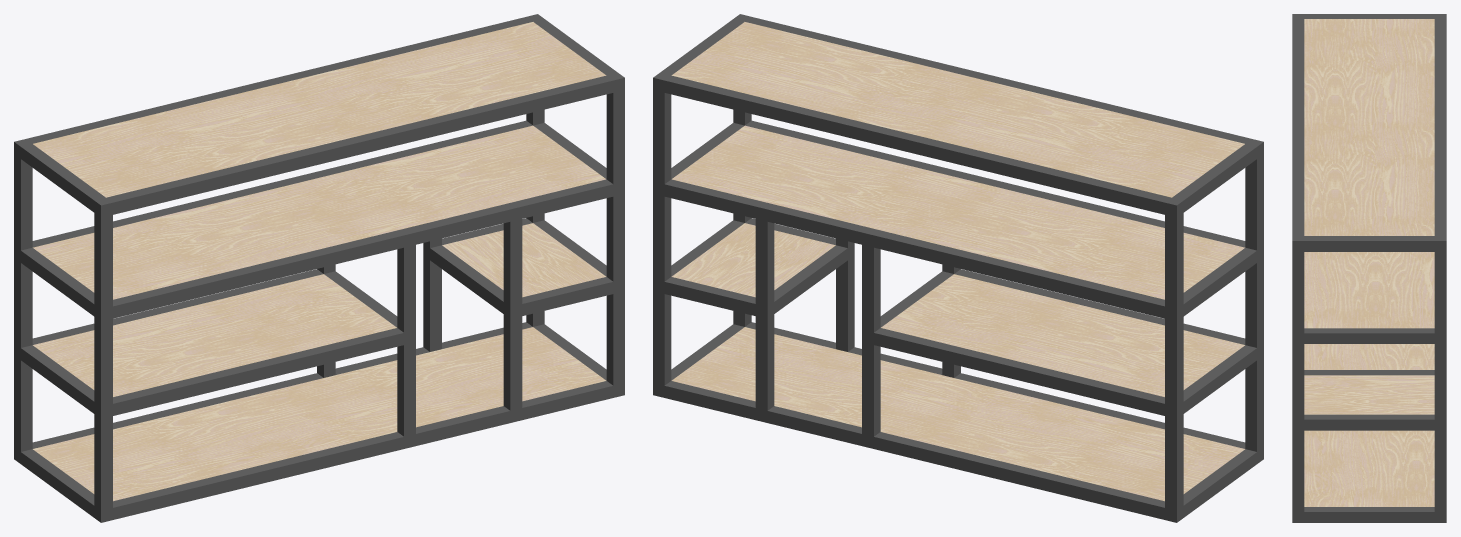
Rendered from shelf_007.fbx.
3 views of the same model, side by side, from view 1: azimuth 30°, elevation 25°; view 2: azimuth 150°, elevation 25°; view 3: azimuth 270°, elevation 25° (orthographic). The views are drawn at different scales.
Visible parts, largest first — view 1: shelf_007; view 2: shelf_007; view 3: shelf_007.
Part boxes in pixels (bbox=[...]): shelf_007: bbox=[14, 14, 624, 522]; shelf_007: bbox=[653, 14, 1263, 522]; shelf_007: bbox=[1292, 14, 1446, 522].
Size of the model in its own units: 167 by 47.95 by 96.47.
